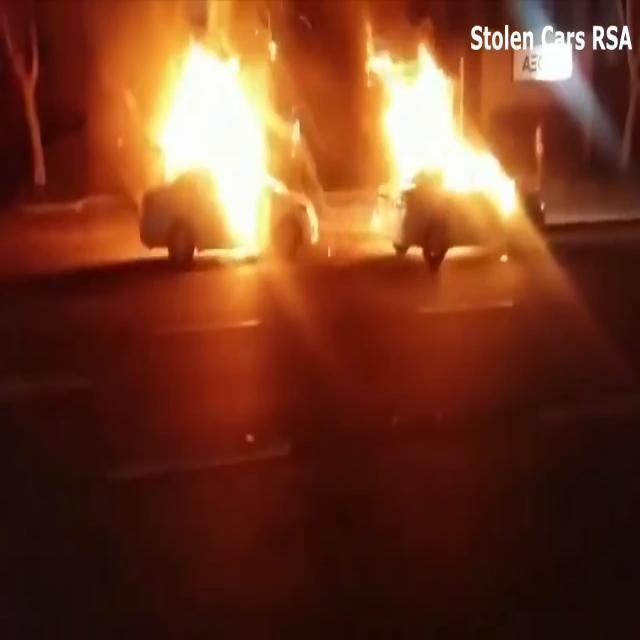fire: (366, 43, 526, 220), (154, 38, 274, 240)
